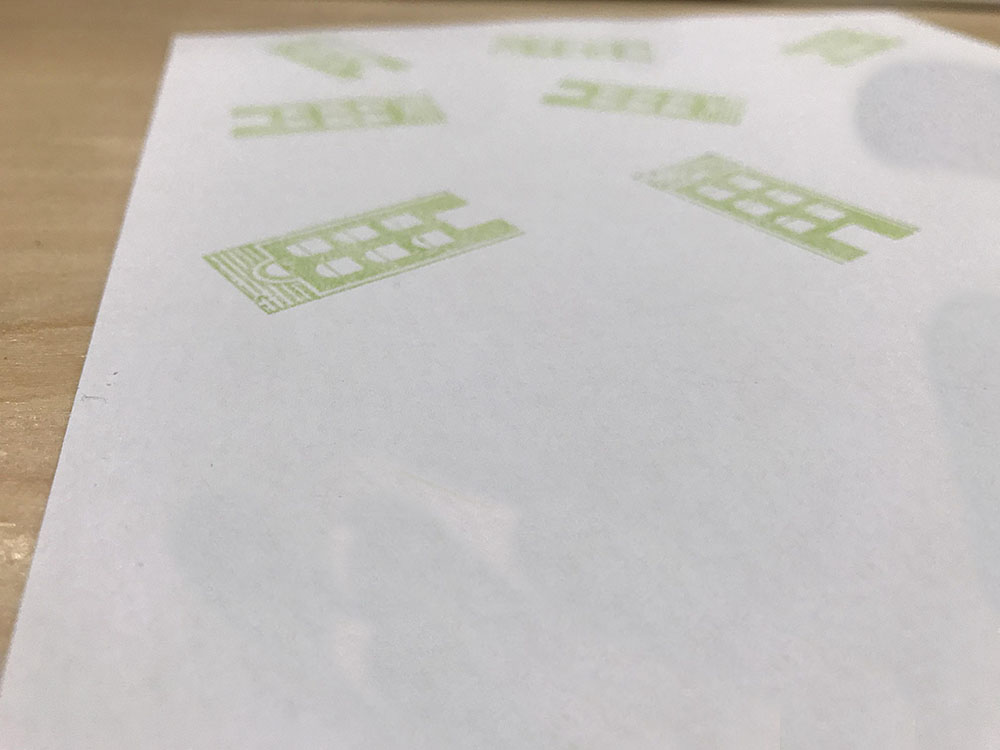build: (180, 184, 552, 320), (608, 142, 955, 282), (516, 65, 765, 144), (208, 80, 462, 150)
